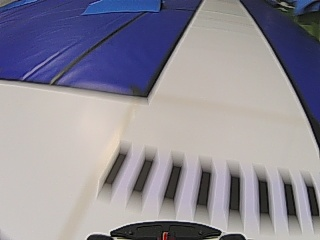CrossWalk: (105, 149, 315, 216)
